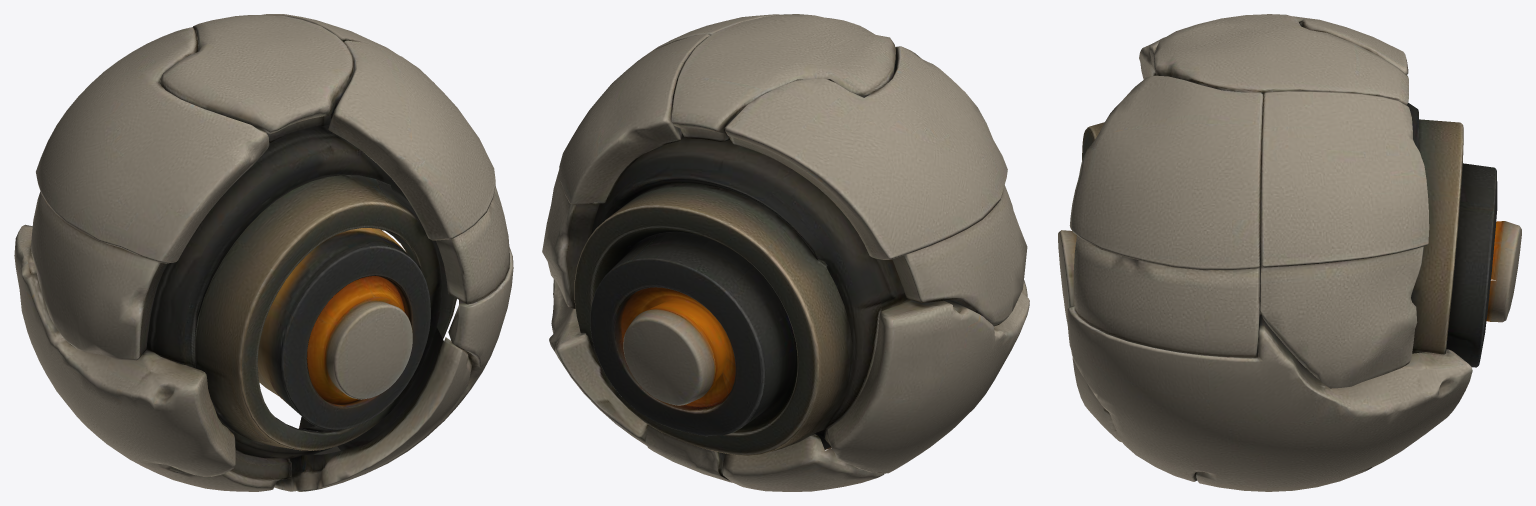
Rendered from stratigraphic-thought-core.glb.
The picture shows the model from 3 angles, left to right: view 1: azimuth 30°, elevation 25°; view 2: azimuth 150°, elevation 25°; view 3: azimuth 270°, elevation 25°; orthographic projection.
Parts seen in each view (by area): view 1: tripo_5b85f4c3_5d3d_4171_b0de_aff452942bde; view 2: tripo_5b85f4c3_5d3d_4171_b0de_aff452942bde; view 3: tripo_5b85f4c3_5d3d_4171_b0de_aff452942bde.
Boxes of the visible parts, x1,y1,x2,y2 form: tripo_5b85f4c3_5d3d_4171_b0de_aff452942bde: (14,14,513,491); tripo_5b85f4c3_5d3d_4171_b0de_aff452942bde: (542,14,1029,491); tripo_5b85f4c3_5d3d_4171_b0de_aff452942bde: (1058,14,1521,491).
Bounding box in the file's own units: 0.9995 × 0.9409 × 0.9429.
1 material, 1 textured.
